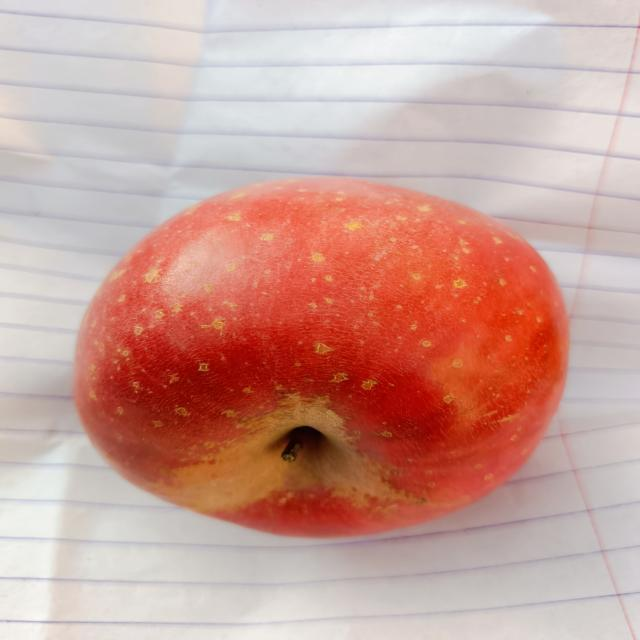Fresh Apple: (78, 185, 557, 558)
